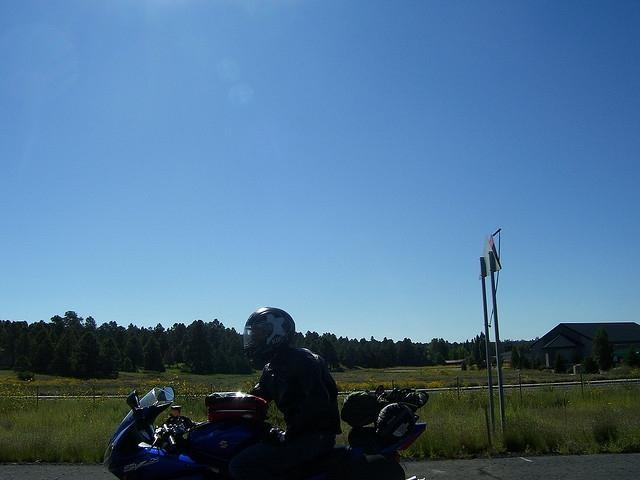motorcycle: (102, 384, 428, 480)
